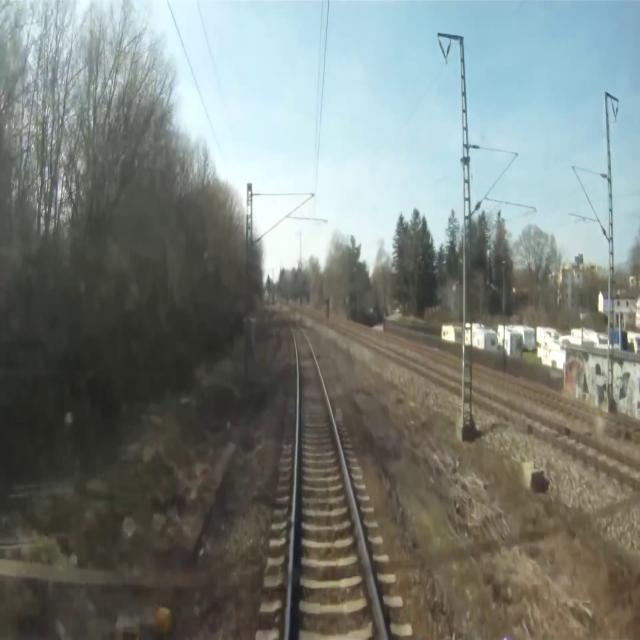rail-track: (289, 327, 385, 639), (472, 386, 640, 479), (491, 377, 640, 434), (385, 348, 462, 386)
